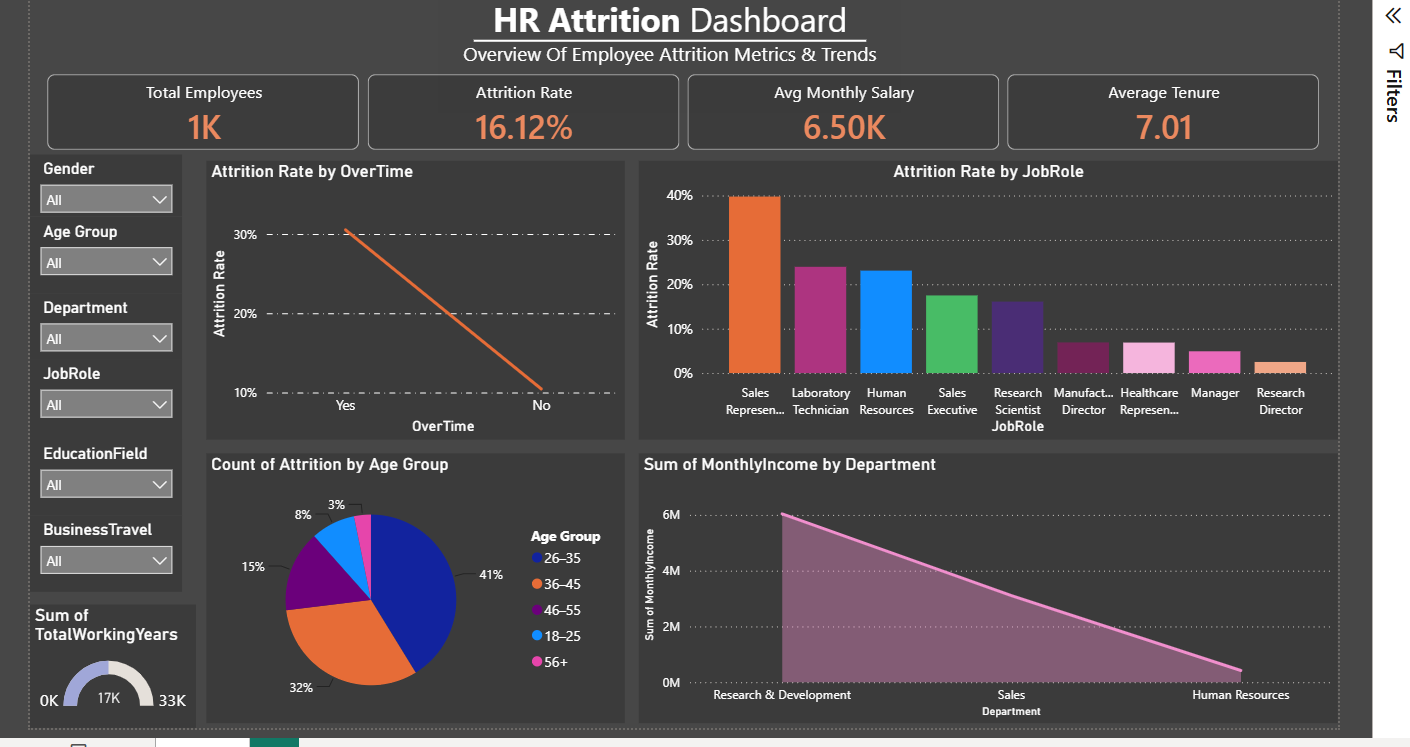

This screenshot's page, from the dashboard's own definition file:
{"tool":"powerbi","page":{"name":"Page 1","canvas":[1280,720],"ordinal":0},"visuals":[{"type":"shape","box":[0,0,1270.5,86.8],"z":0},{"type":"textbox","box":[399.9,0,452.4,118.6],"z":1},{"type":"shape","box":[434.1,0,384,95.4],"z":2},{"type":"shape","box":[0,159,149.2,428],"z":5},{"type":"slicer","fields":{"Values":["WA_Fn-UseC_-HR-Employee-Attrition.Department"]},"box":[0,294.7,149.2,64.8],"z":6},{"type":"slicer","fields":{"Values":["WA_Fn-UseC_-HR-Employee-Attrition.JobRole"]},"box":[0,359.5,149.2,78.3],"z":7},{"type":"slicer","fields":{"Values":["WA_Fn-UseC_-HR-Employee-Attrition.Gender"]},"box":[0,159,149.2,61.1],"z":8},{"type":"slicer","fields":{"Values":["WA_Fn-UseC_-HR-Employee-Attrition.BusinessTravel"]},"box":[0,512.4,149.2,74.6],"z":9},{"type":"slicer","fields":{"Values":["WA_Fn-UseC_-HR-Employee-Attrition.EducationField"]},"box":[0,437.8,149.2,74.6],"z":10},{"type":"slicer","fields":{"Values":["WA_Fn-UseC_-HR-Employee-Attrition.Age Group"]},"box":[0,220.1,149.2,74.6],"z":11},{"type":"shape","box":[149.2,446.3,260.5,273.9],"z":12},{"type":"pieChart","fields":{"Category":["WA_Fn-UseC_-HR-Employee-Attrition.Age Group"],"Y":["CountNonNull(WA_Fn-UseC_-HR-Employee-Attrition.Attrition)"]},"box":[172.4,451.2,409.6,264.1],"z":13},{"type":"lineChart","fields":{"Category":["WA_Fn-UseC_-HR-Employee-Attrition.OverTime"],"Y":["WA_Fn-UseC_-HR-Employee-Attrition.Attrition Rate"]},"box":[172.4,165.1,409.6,272.7],"z":14},{"type":"clusteredColumnChart","fields":{"Y":["WA_Fn-UseC_-HR-Employee-Attrition.Attrition Rate"],"Category":["WA_Fn-UseC_-HR-Employee-Attrition.JobRole"]},"box":[595.5,165.1,684.8,272.7],"z":15},{"type":"areaChart","fields":{"Category":["WA_Fn-UseC_-HR-Employee-Attrition.Department"],"Y":["Sum(WA_Fn-UseC_-HR-Employee-Attrition.MonthlyIncome)"]},"box":[596,451,684,264],"z":16},{"type":"cardVisual","fields":{"Data":["WA_Fn-UseC_-HR-Employee-Attrition.Total Employees","WA_Fn-UseC_-HR-Employee-Attrition.Attrition Rate","WA_Fn-UseC_-HR-Employee-Attrition.Avg Monthly Salary","WA_Fn-UseC_-HR-Employee-Attrition.Average Tenure"]},"box":[0,63.6,1279.1,108.8],"z":17},{"type":"gauge","fields":{"Y":["Sum(WA_Fn-UseC_-HR-Employee-Attrition.TotalWorkingYears)"]},"box":[0,599.2,162.6,121.1],"z":18}]}

Visuals, with their boxes in screenshot pixels (x1, y1, x2, y2):
shape: x1=62 y1=4 x2=1360 y2=92
textbox: x1=471 y1=4 x2=933 y2=125
shape: x1=506 y1=4 x2=898 y2=101
shape: x1=62 y1=166 x2=215 y2=603
slicer - WA_Fn-UseC_-HR-Employee-Attrition.Department: x1=62 y1=305 x2=215 y2=371
slicer - WA_Fn-UseC_-HR-Employee-Attrition.JobRole: x1=62 y1=371 x2=215 y2=451
slicer - WA_Fn-UseC_-HR-Employee-Attrition.Gender: x1=62 y1=166 x2=215 y2=228
slicer - WA_Fn-UseC_-HR-Employee-Attrition.BusinessTravel: x1=62 y1=527 x2=215 y2=603
slicer - WA_Fn-UseC_-HR-Employee-Attrition.EducationField: x1=62 y1=451 x2=215 y2=527
slicer - WA_Fn-UseC_-HR-Employee-Attrition.Age Group: x1=62 y1=228 x2=215 y2=305
shape: x1=215 y1=459 x2=481 y2=739
pieChart - WA_Fn-UseC_-HR-Employee-Attrition.Age Group x CountNonNull(WA_Fn-UseC_-HR-Employee-Attrition.Attrition): x1=238 y1=464 x2=657 y2=734
lineChart - WA_Fn-UseC_-HR-Employee-Attrition.OverTime x WA_Fn-UseC_-HR-Employee-Attrition.Attrition Rate: x1=238 y1=172 x2=657 y2=451
clusteredColumnChart - WA_Fn-UseC_-HR-Employee-Attrition.Attrition Rate x WA_Fn-UseC_-HR-Employee-Attrition.JobRole: x1=670 y1=172 x2=1370 y2=451
areaChart - WA_Fn-UseC_-HR-Employee-Attrition.Department x Sum(WA_Fn-UseC_-HR-Employee-Attrition.MonthlyIncome): x1=671 y1=464 x2=1369 y2=734
cardVisual - WA_Fn-UseC_-HR-Employee-Attrition.Total Employees x WA_Fn-UseC_-HR-Employee-Attrition.Attrition Rate: x1=62 y1=69 x2=1368 y2=180
gauge - Sum(WA_Fn-UseC_-HR-Employee-Attrition.TotalWorkingYears): x1=62 y1=615 x2=228 y2=739
